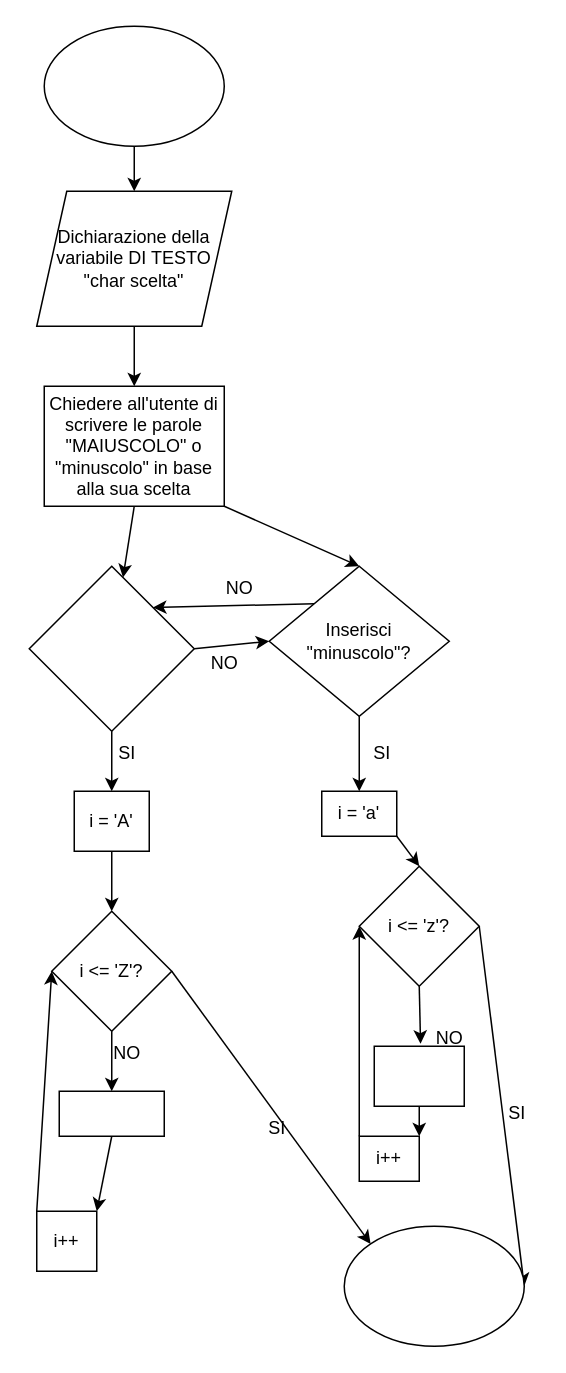
The diagram is 566 pixels wide and 1373 high, and some of its shapes have lost their labels. The shapes that lost their labels are listed below. From the top down, each one's centre as x and y in pixels, then its label:
(x=133, y=85): INIZIO con Intestazione
(x=111, y=648): Inserisci "MAIUSCOLO"?
(x=418, y=1075): Stampa lettere \n
(x=111, y=1113): Stampa lettera \n
(x=433, y=1285): FINE
